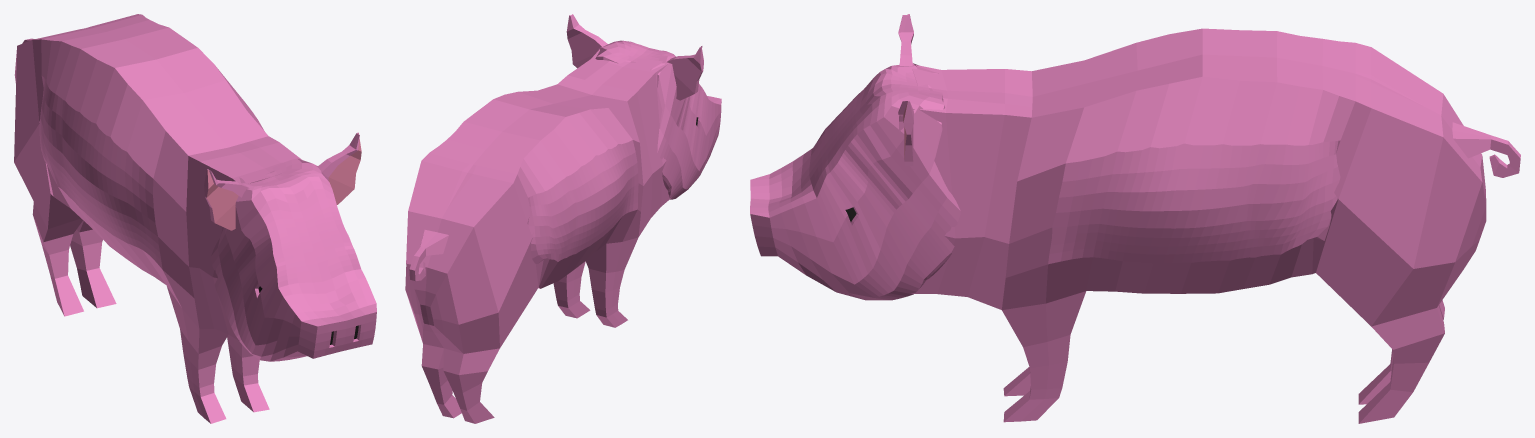
The model's file is Pig.fbx.
3 views of the same model, side by side, from view 1: azimuth 30°, elevation 25°; view 2: azimuth 150°, elevation 25°; view 3: azimuth 270°, elevation 25° (orthographic). The views are drawn at different scales.
Visible parts, largest first — view 1: Cube.001; view 2: Cube.001; view 3: Cube.001.
Boxes of the visible parts, left/top/right/bottom form: Cube.001: left=14, top=14, right=376, bottom=423; Cube.001: left=405, top=14, right=721, bottom=423; Cube.001: left=750, top=14, right=1520, bottom=423.
Size of the model in its own units: 318 by 570 by 1118.
